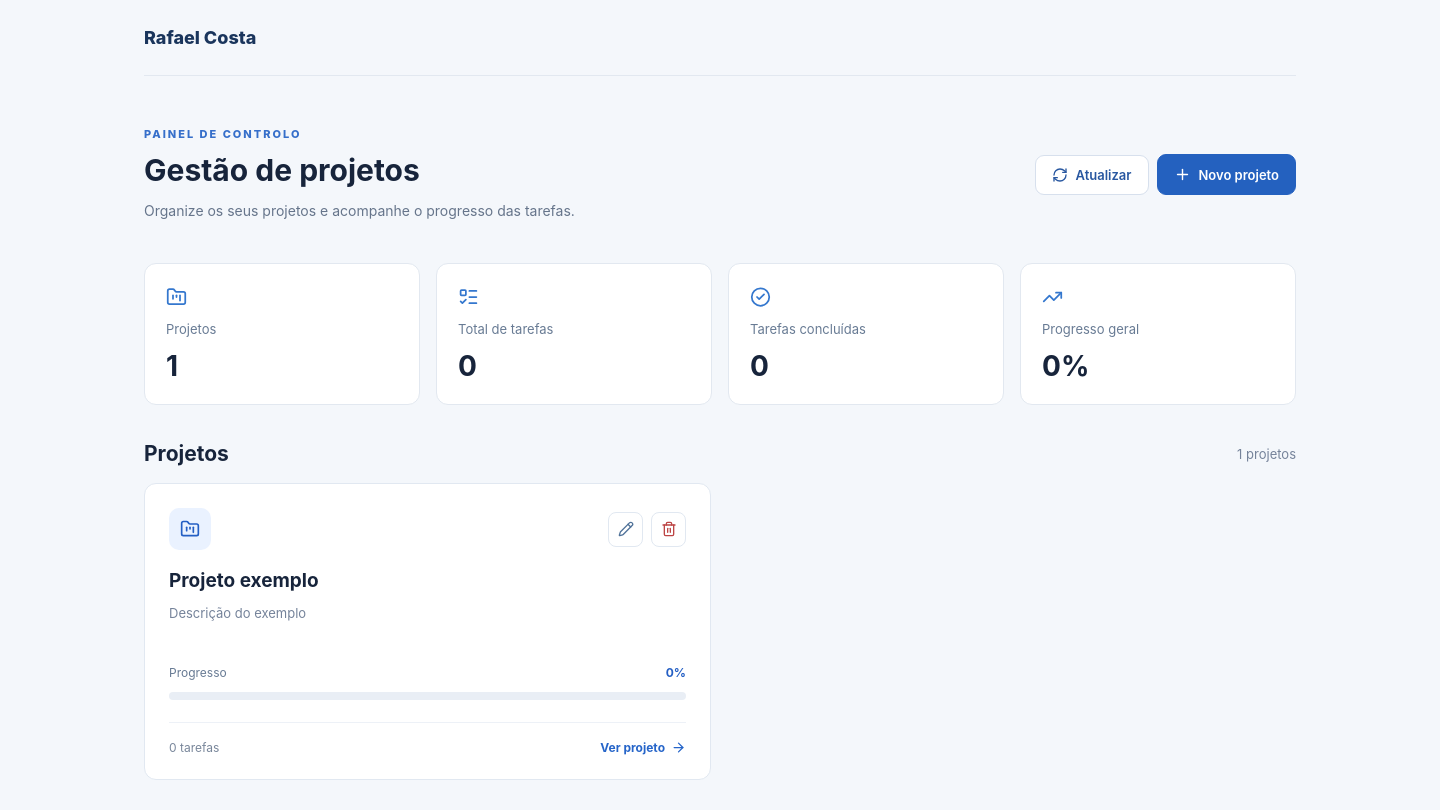
Test: Ramificações do dashboard › edita um projeto e atualiza o cartão
Expected: the heading "Projeto exemplo" is shown, top-left (169, 569), bottom-right (319, 592)
Click the button named "Editar Projeto exemplo" at (626, 529), box top-left (608, 512), bottom-right (643, 546)
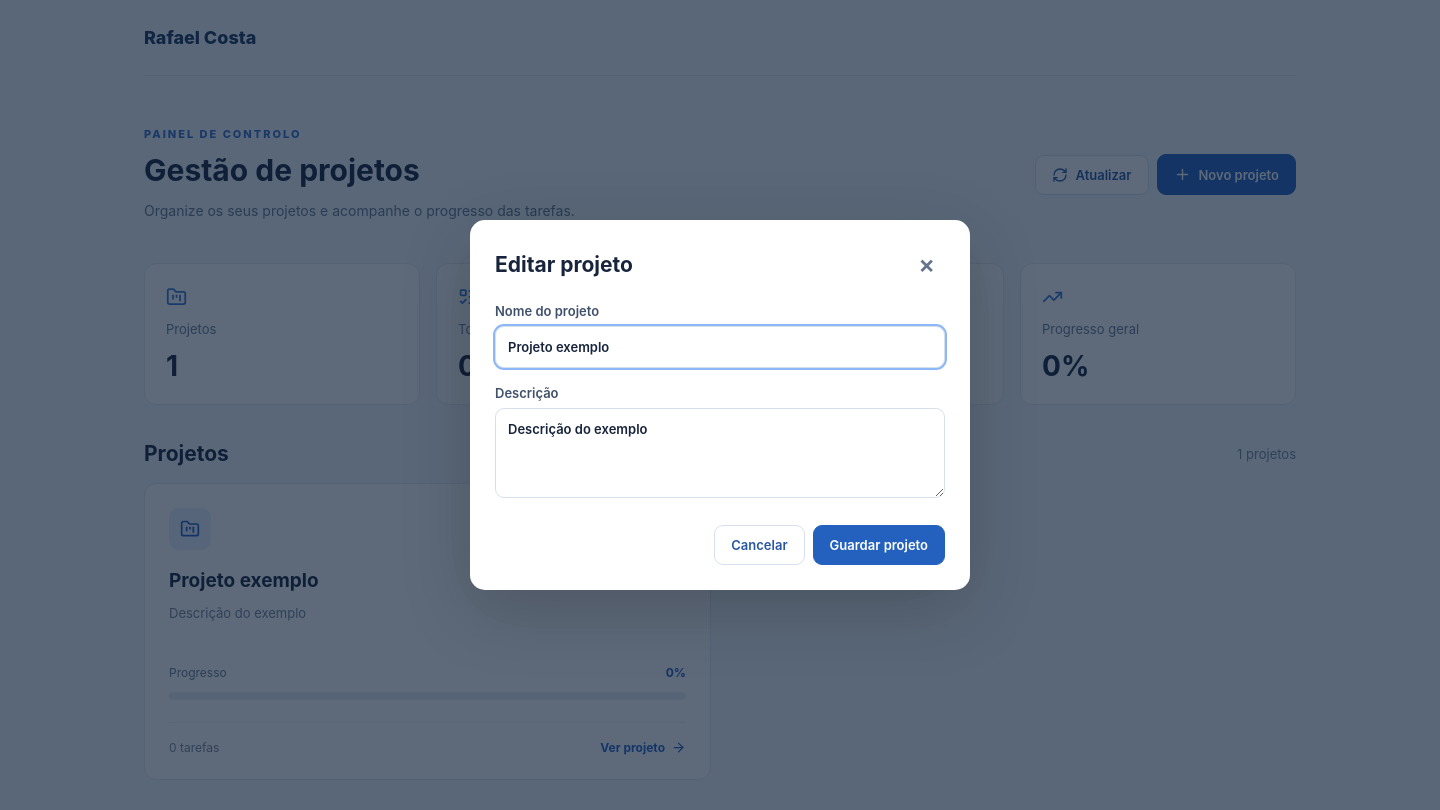
Replace the text in the field labelled "Nome do projeto" with "Projeto modificado" at (720, 347), box top-left (495, 326), bottom-right (945, 368)
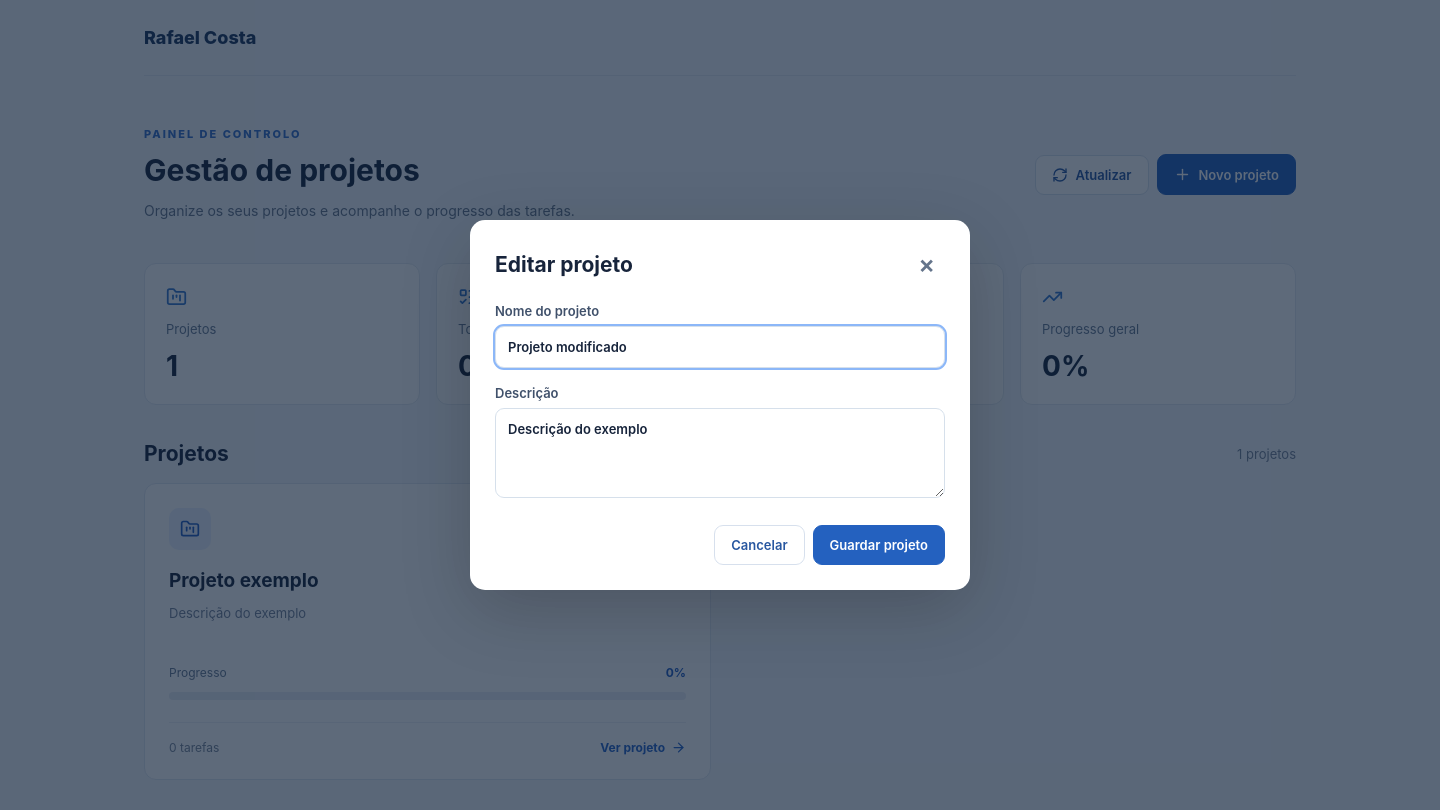
Click the button "Guardar projeto" at (879, 545), box top-left (813, 525), bottom-right (945, 565)
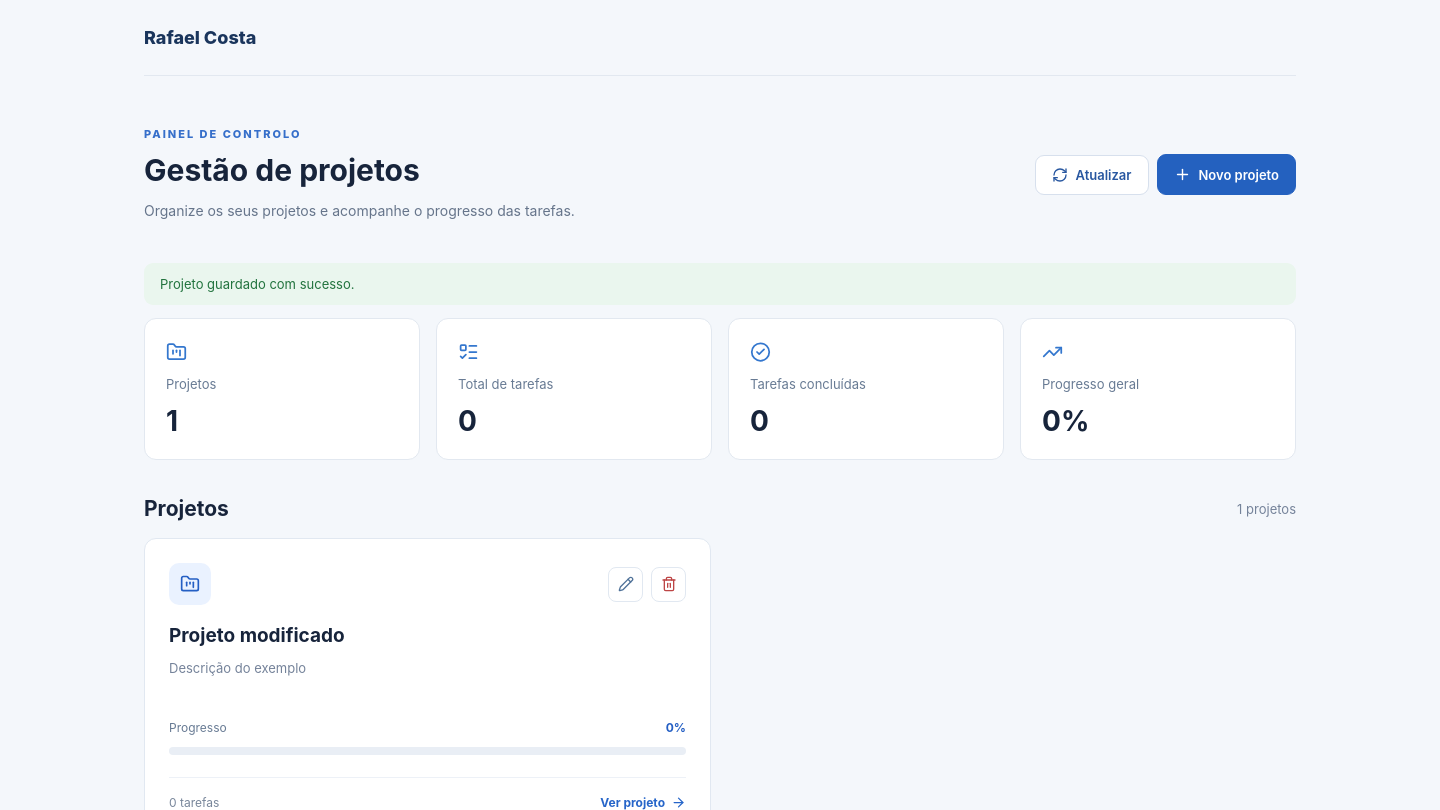
Expected: the heading "Projeto modificado" is shown, top-left (169, 624), bottom-right (345, 647)
